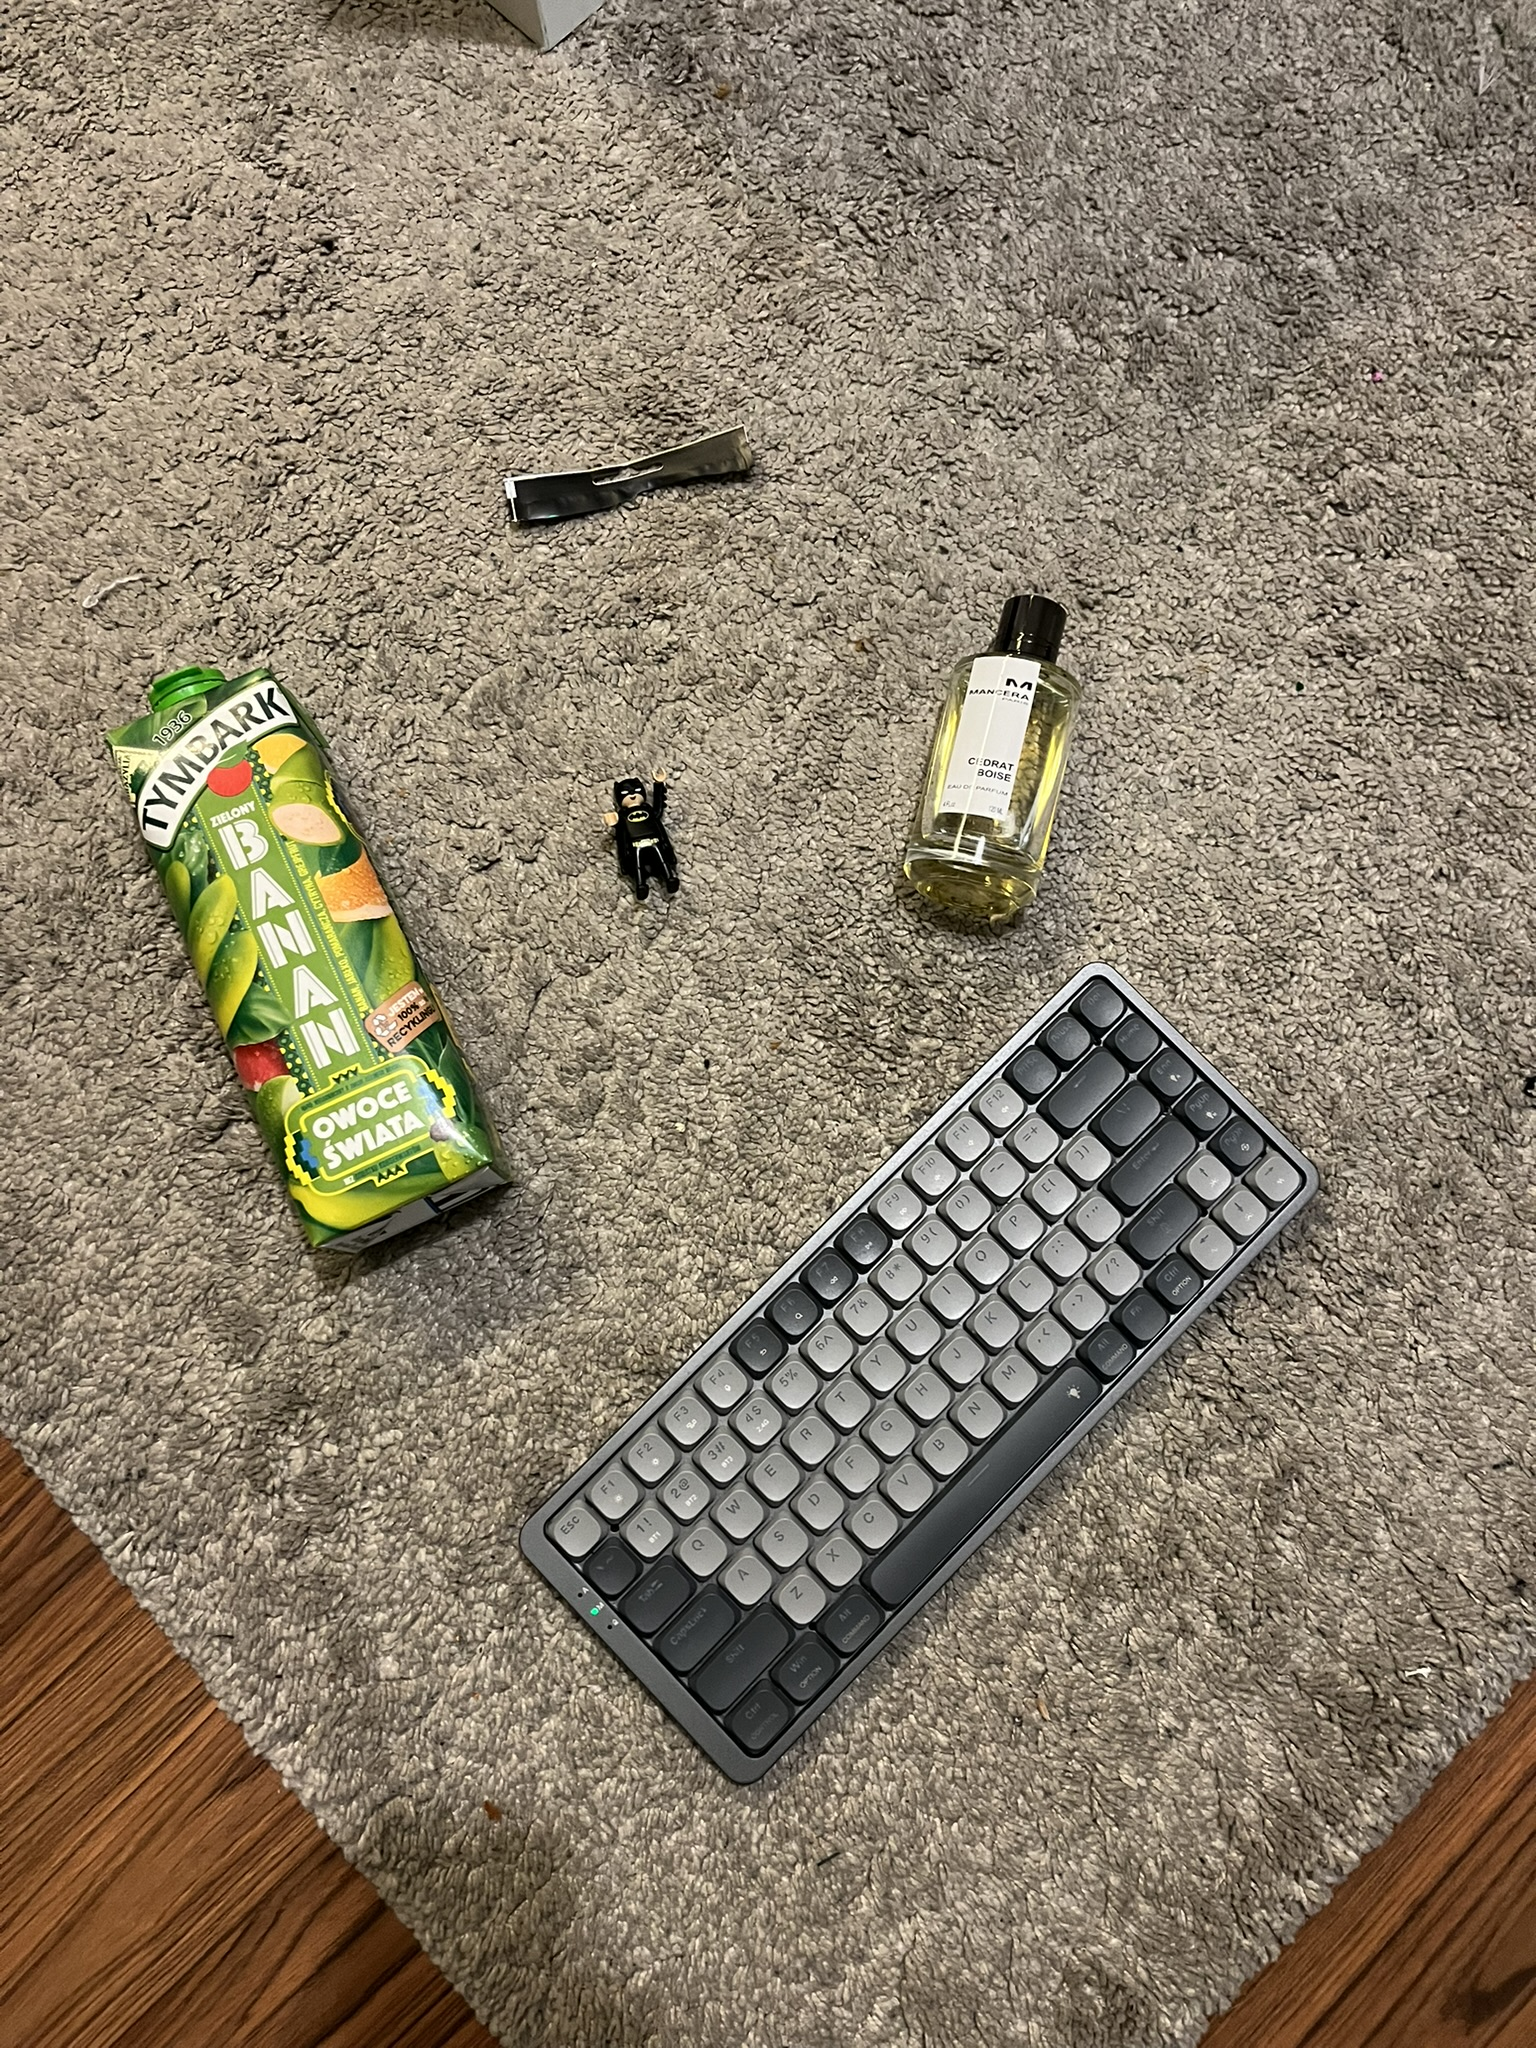CARDBOARD: (52, 735, 318, 1330)
GLASS: (944, 574, 1121, 889)
METAL: (1087, 926, 1480, 1784)
PLASTIC: (471, 455, 762, 548), (576, 777, 679, 919)
